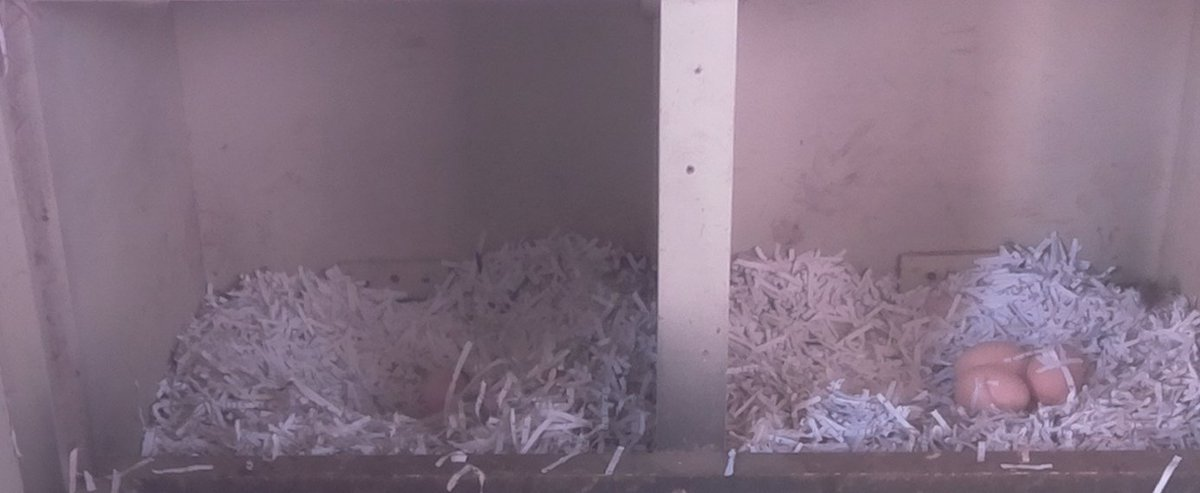egg: (949, 363, 1034, 423), (949, 338, 1034, 387), (1025, 342, 1088, 407), (421, 362, 473, 418)
